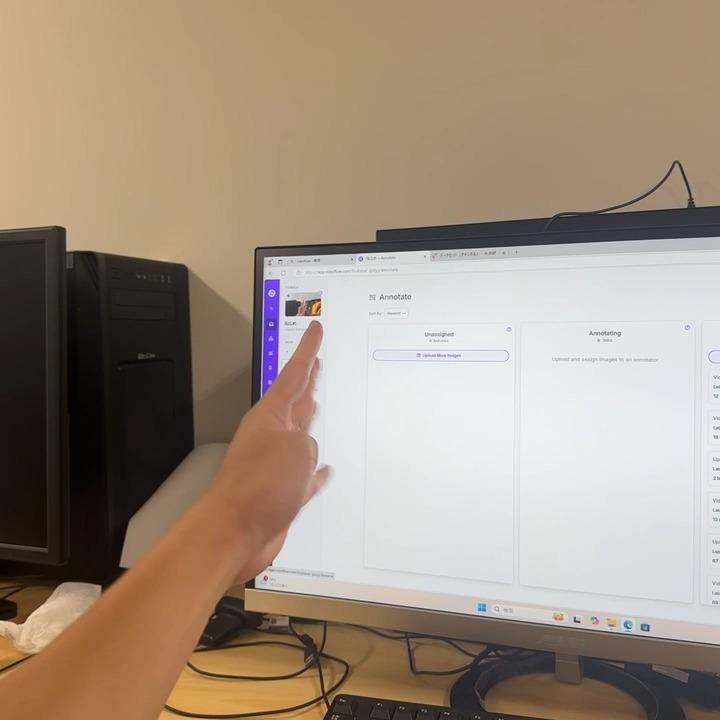without_gloves: (154, 286, 417, 591)
